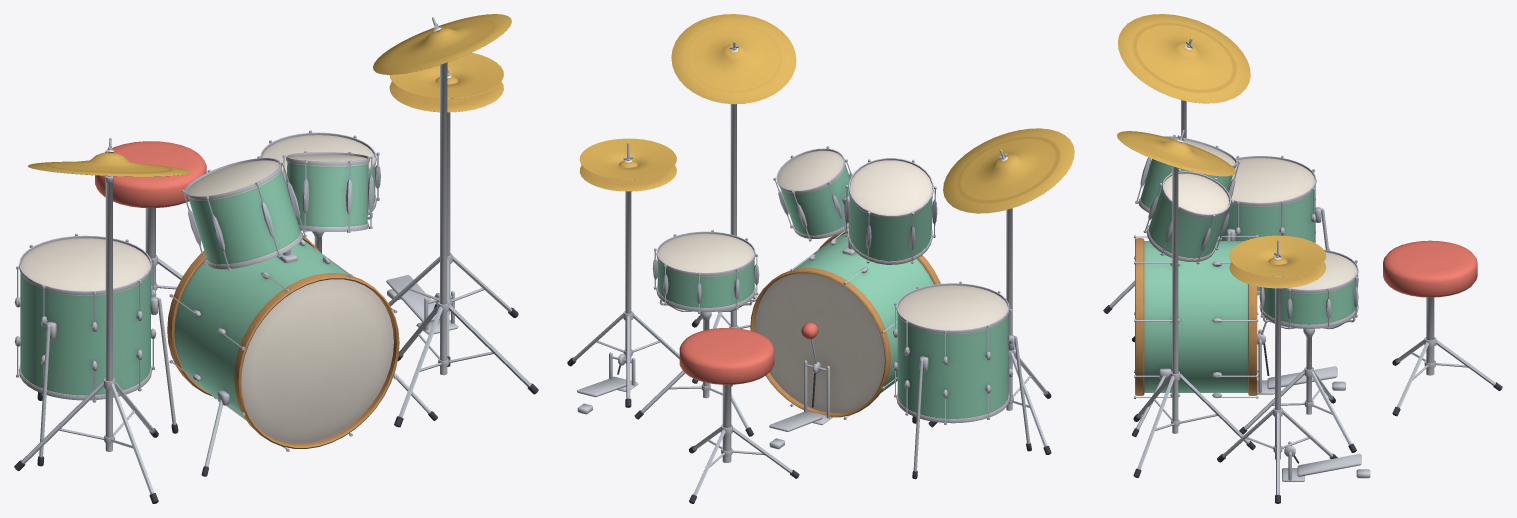
Rendered from drum-kit.obj.
3 renders of one model, left to right at view 1: azimuth 30°, elevation 25°; view 2: azimuth 150°, elevation 25°; view 3: azimuth 270°, elevation 25°, orthographic. The views are drawn at different scales.
Parts seen in each view (by area): view 1: drum-kit_body; view 2: drum-kit_body; view 3: drum-kit_body.
Boxes of the visible parts, x1,y1,x2,y2 form: drum-kit_body: (14,14,538,503); drum-kit_body: (567,14,1074,503); drum-kit_body: (1103,14,1502,503).
Bounding box in the file's own units: 1.93 × 1.29 × 1.47.
Materials: 1 (1 with a texture image).
